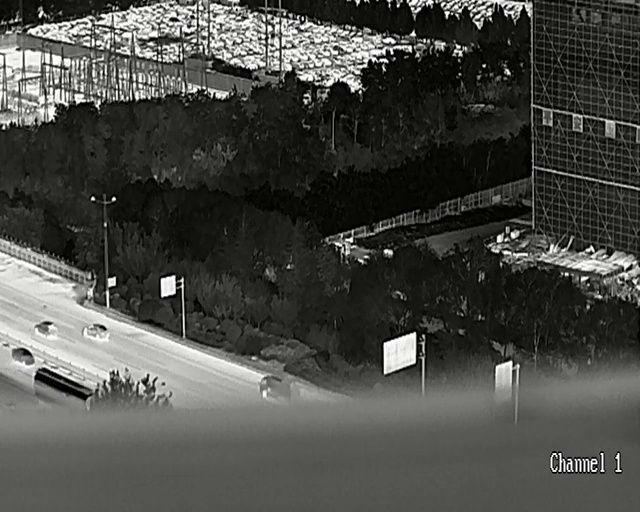uav: (67, 224, 83, 231)
